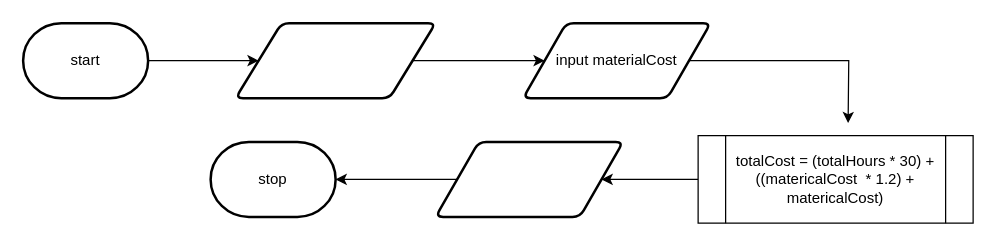
Image size: 995x245. Some labels were removed from this diagram. The shapes that lost their labels are listed below. From the top down, each one's centre as x and y in pixels, then its label:
At (x=335, y=60): "input totalHours".
At (x=529, y=179): "print totalCost".
